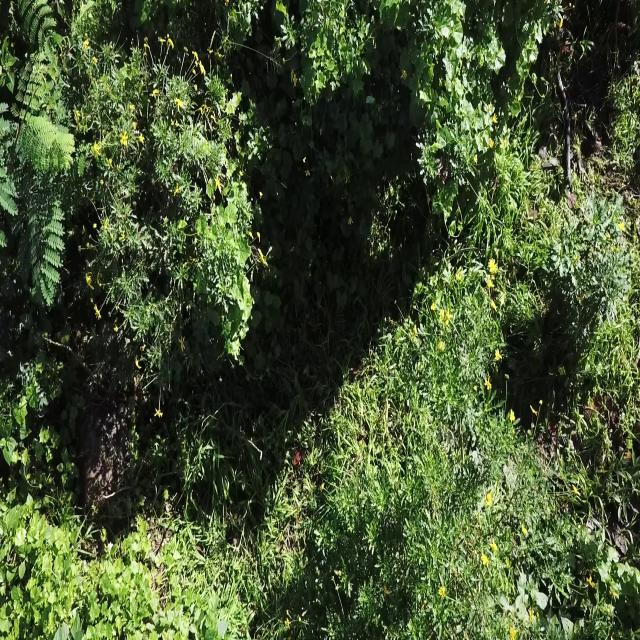Mysore-Thorn-Weed: (0, 0, 70, 303)
